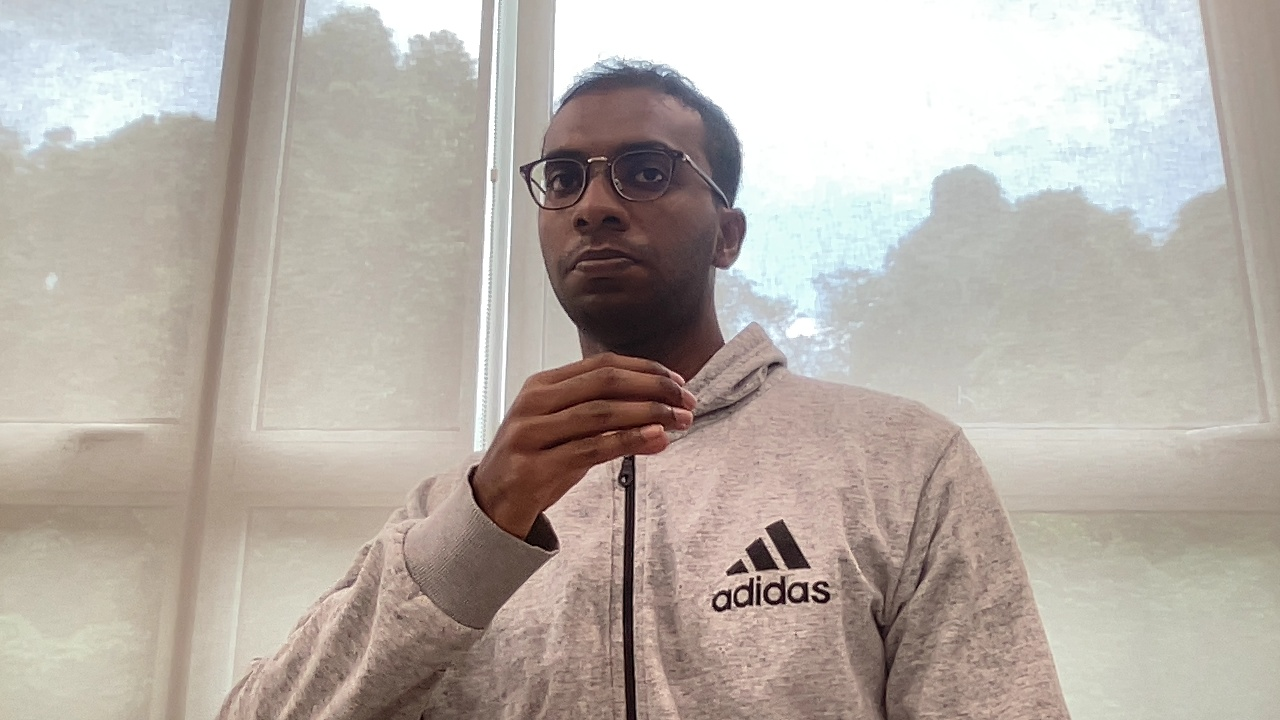drink: (496, 346, 703, 511)
